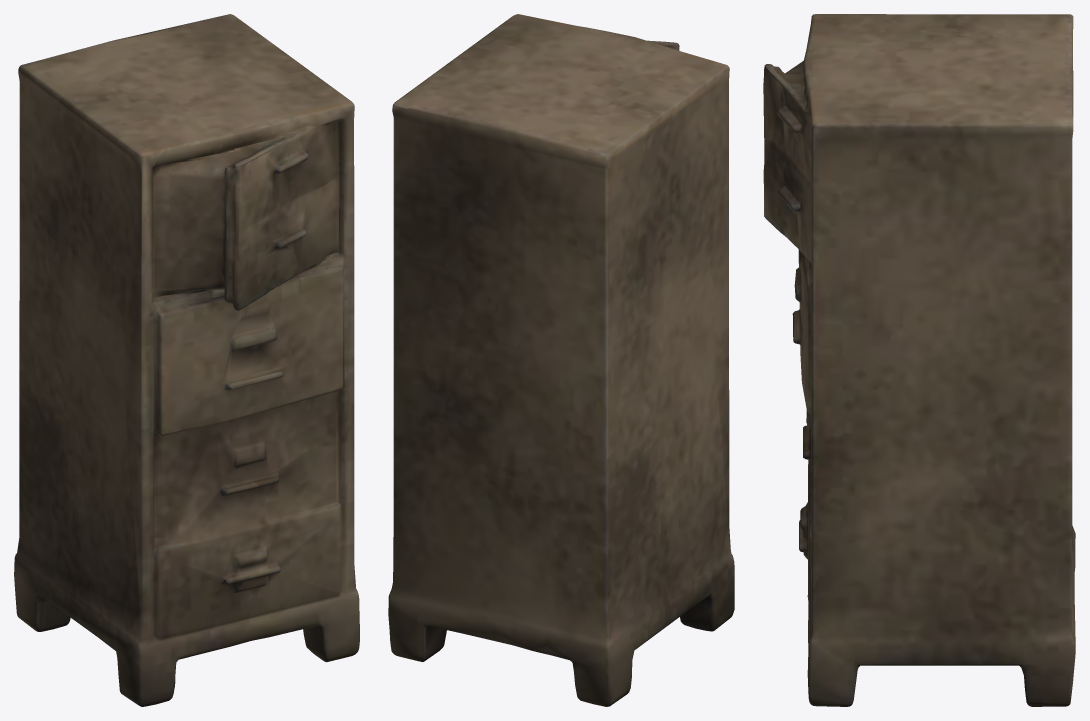
File: worn-wood-filing-cabinet-v001.glb
The picture shows the model from 3 angles, left to right: view 1: azimuth 30°, elevation 25°; view 2: azimuth 150°, elevation 25°; view 3: azimuth 270°, elevation 25°; orthographic projection. The views are drawn at different scales.
Visible parts, largest first — view 1: worn-wood-filing-cabinet; view 2: worn-wood-filing-cabinet; view 3: worn-wood-filing-cabinet.
Boxes of the visible parts, box(x1,y1,x2,y2) form: worn-wood-filing-cabinet: box(14, 14, 359, 706); worn-wood-filing-cabinet: box(388, 14, 734, 706); worn-wood-filing-cabinet: box(763, 14, 1075, 706).
Bounding box in the file's own units: 0.5584 × 1.34 × 0.6443.
Materials: 1 (1 with a texture image).
